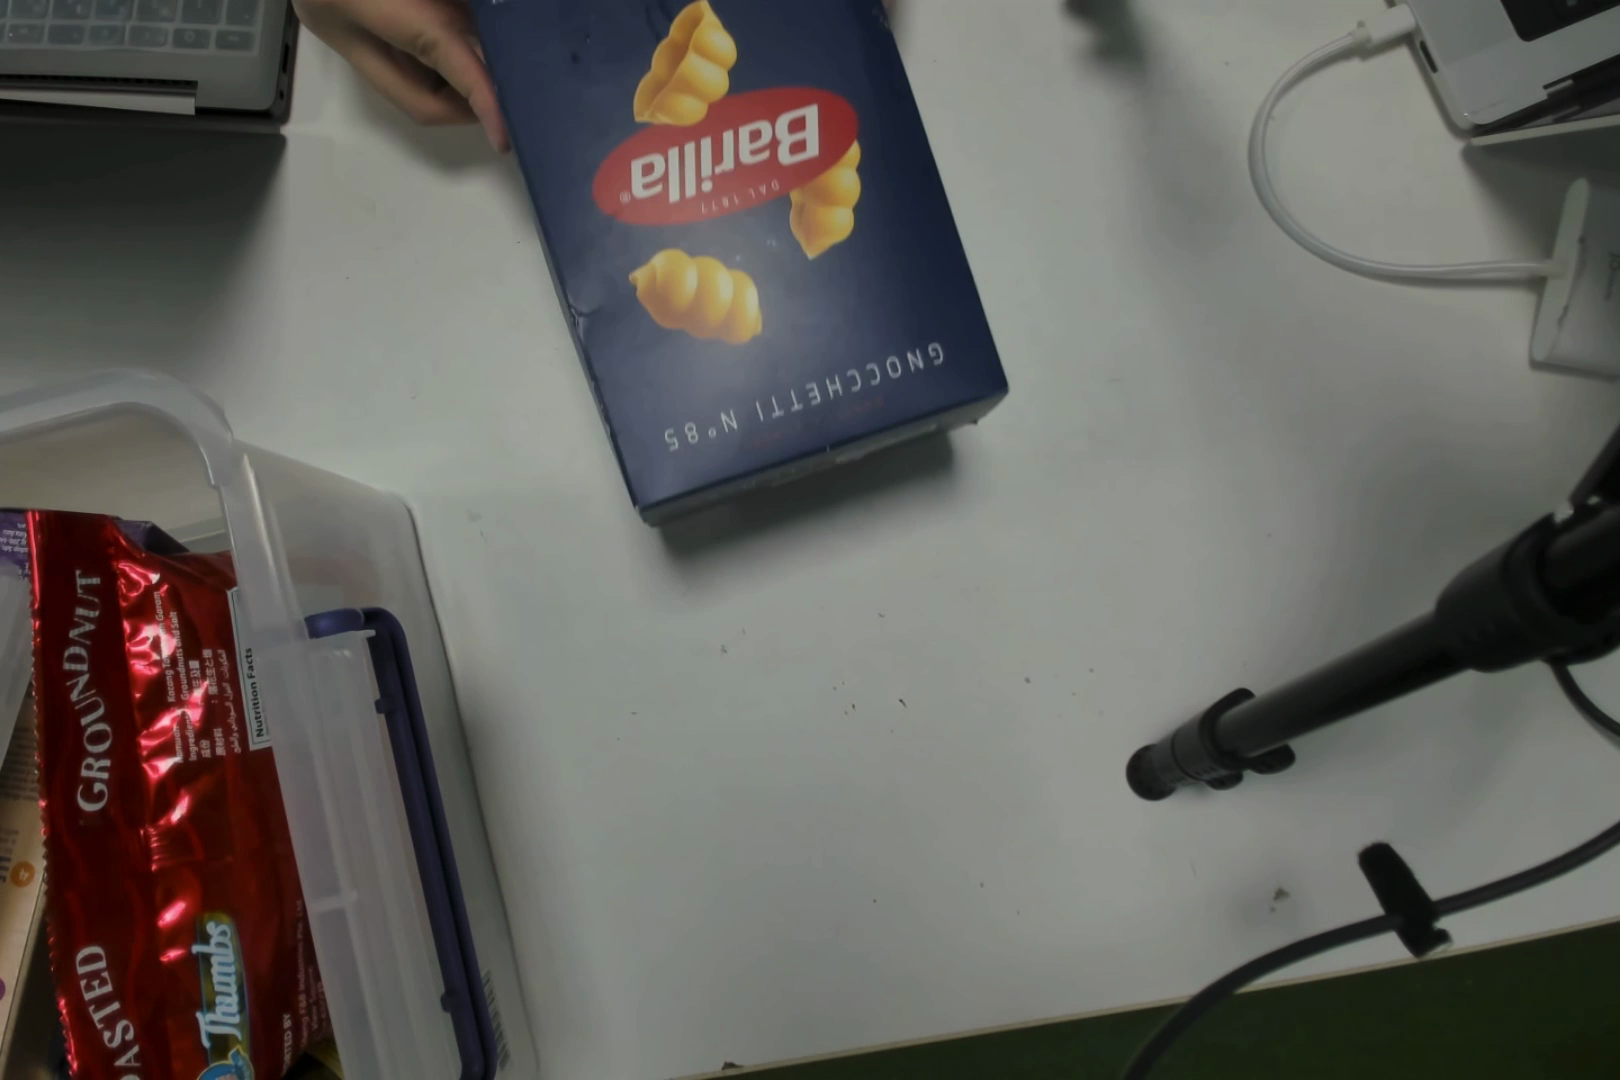Pasta_500-599g_NonHalal_NonHealthy: (574, 13, 978, 476)
